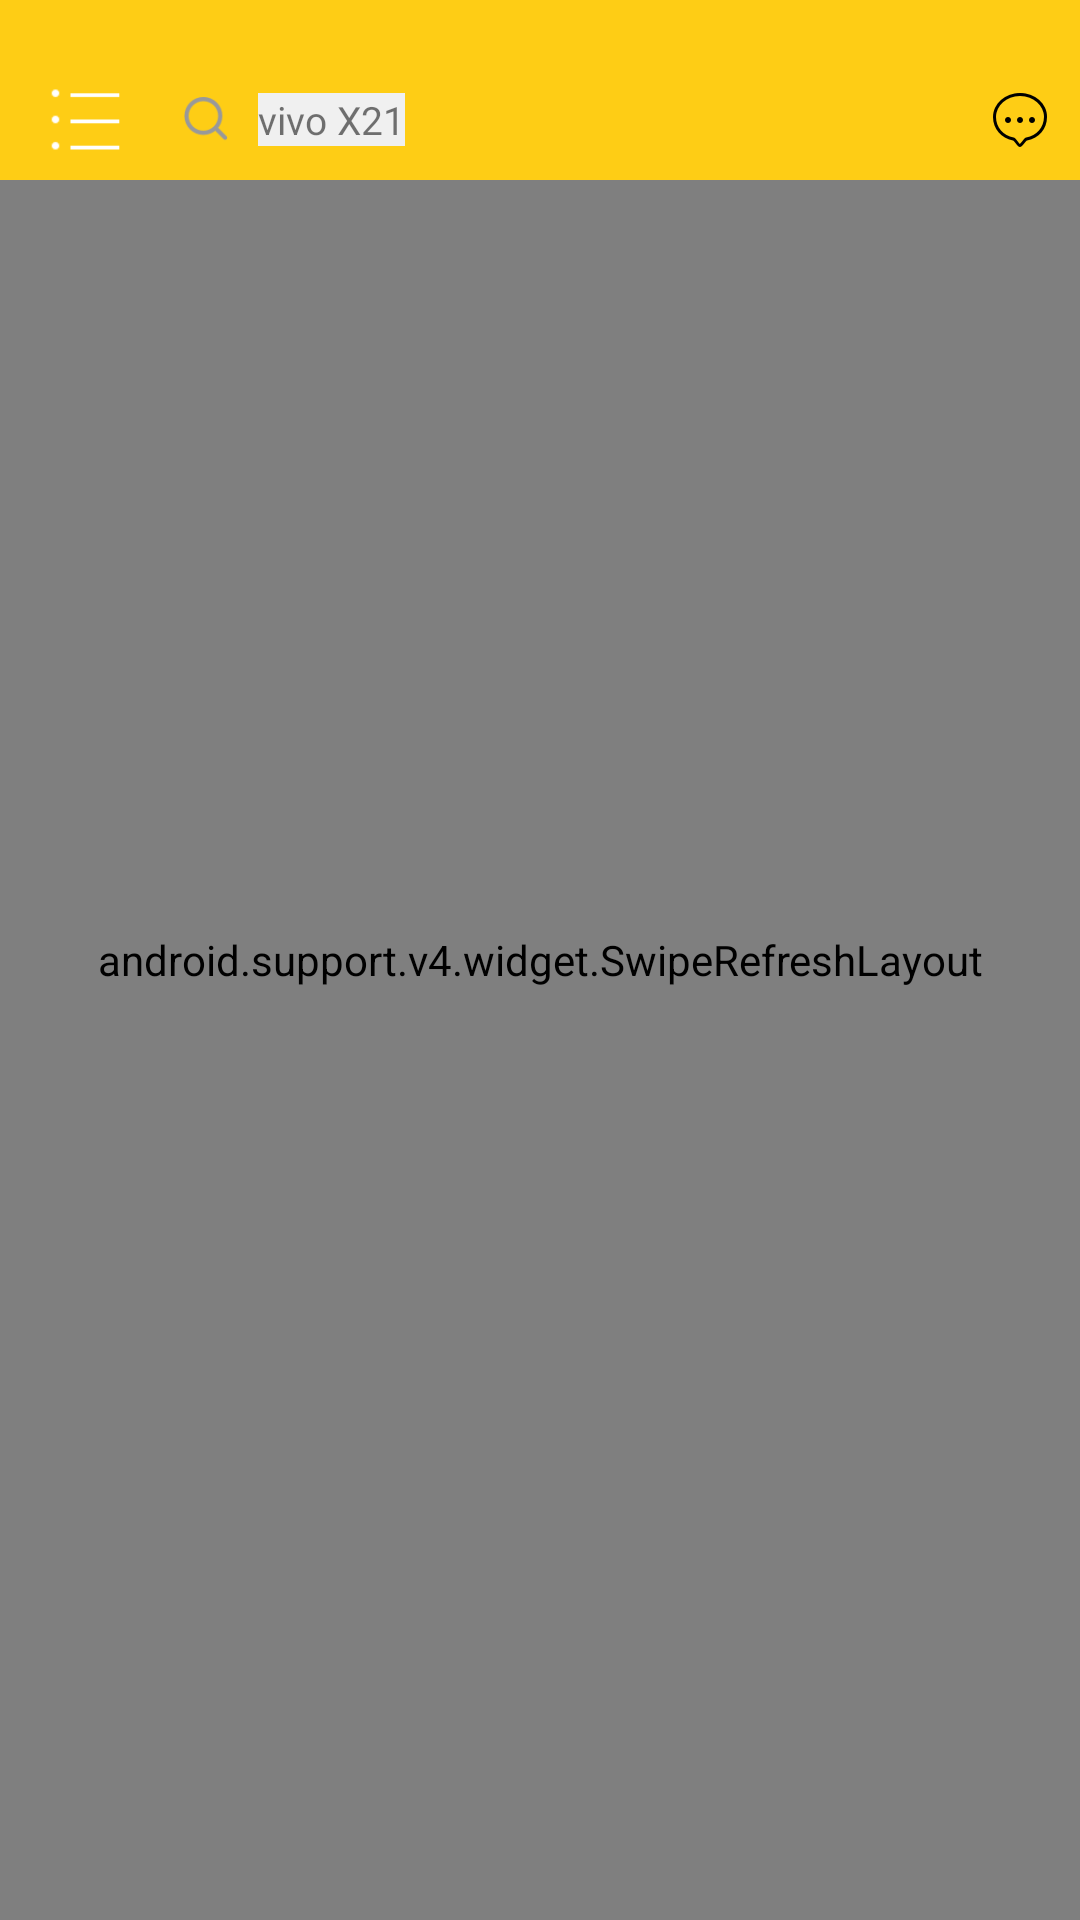

Icons on this 1080 × 1920 Android screen, each with the point to tap as (x,y):
home title message: (1020,120)
mall menu: (85,119)
search: (205,118)
